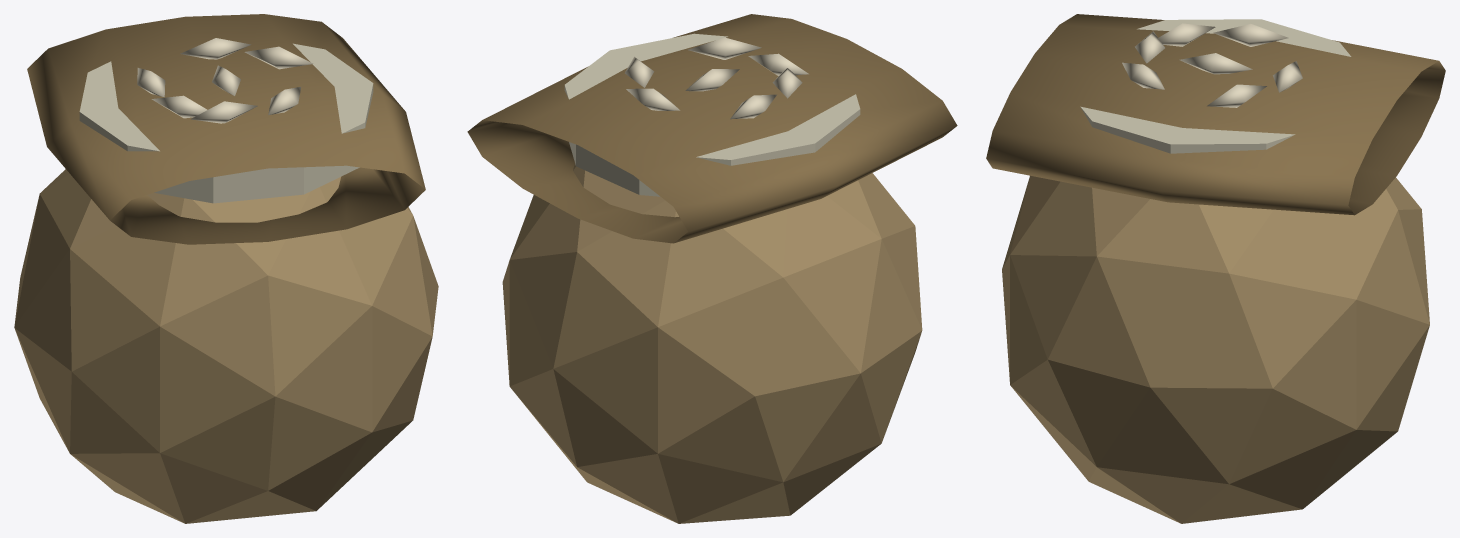
Rendered from pile-milledRice-1.gltf.
3 views of the same model, side by side, from view 1: azimuth 30°, elevation 25°; view 2: azimuth 150°, elevation 25°; view 3: azimuth 270°, elevation 25° (orthographic). The views are drawn at different scales.
Parts seen in each view (by area): view 1: pile-milledRice-1; view 2: pile-milledRice-1; view 3: pile-milledRice-1.
Part boxes in pixels (bbox=[...]): pile-milledRice-1: bbox=[14, 14, 438, 523]; pile-milledRice-1: bbox=[467, 14, 957, 523]; pile-milledRice-1: bbox=[986, 14, 1445, 523].
Bounding box in the file's own units: 0.2515 × 0.2915 × 0.267.
